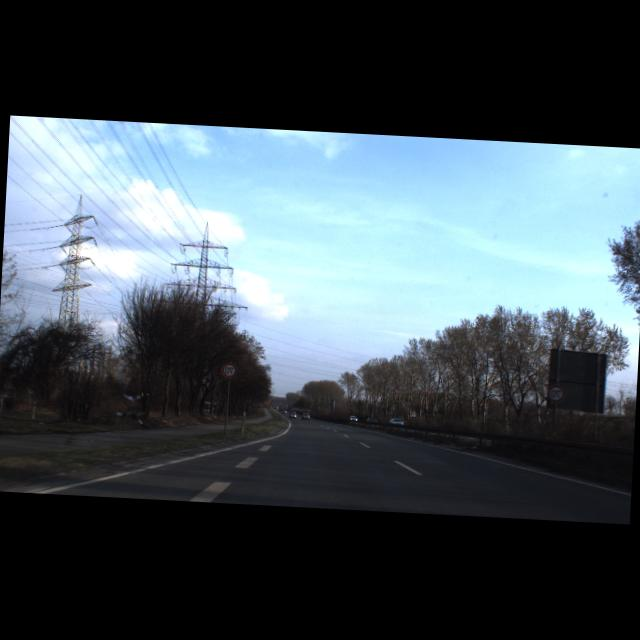prohibitory: (547, 384, 566, 403), (222, 362, 238, 379)
